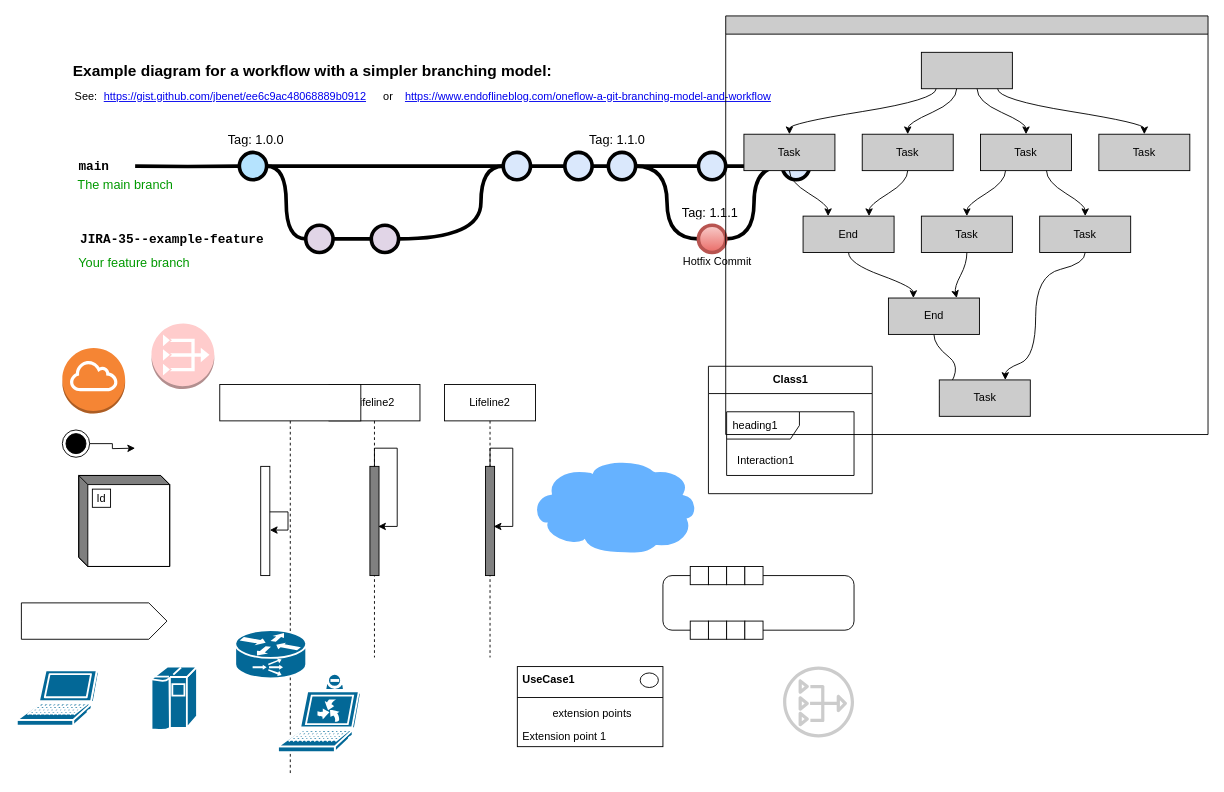
This 1224x792 diagram has some shape labels left out. Here are the shapes that lost their labels. From the top down, the box of each, then its label:
(920, 51, 1012, 89): Start
(725, 15, 1208, 435): Vertical Flow Layout
(528, 456, 699, 554): 政务云
(219, 384, 361, 776): Lifeline1
(20, 602, 167, 639): adad
(662, 575, 854, 630): Action1
